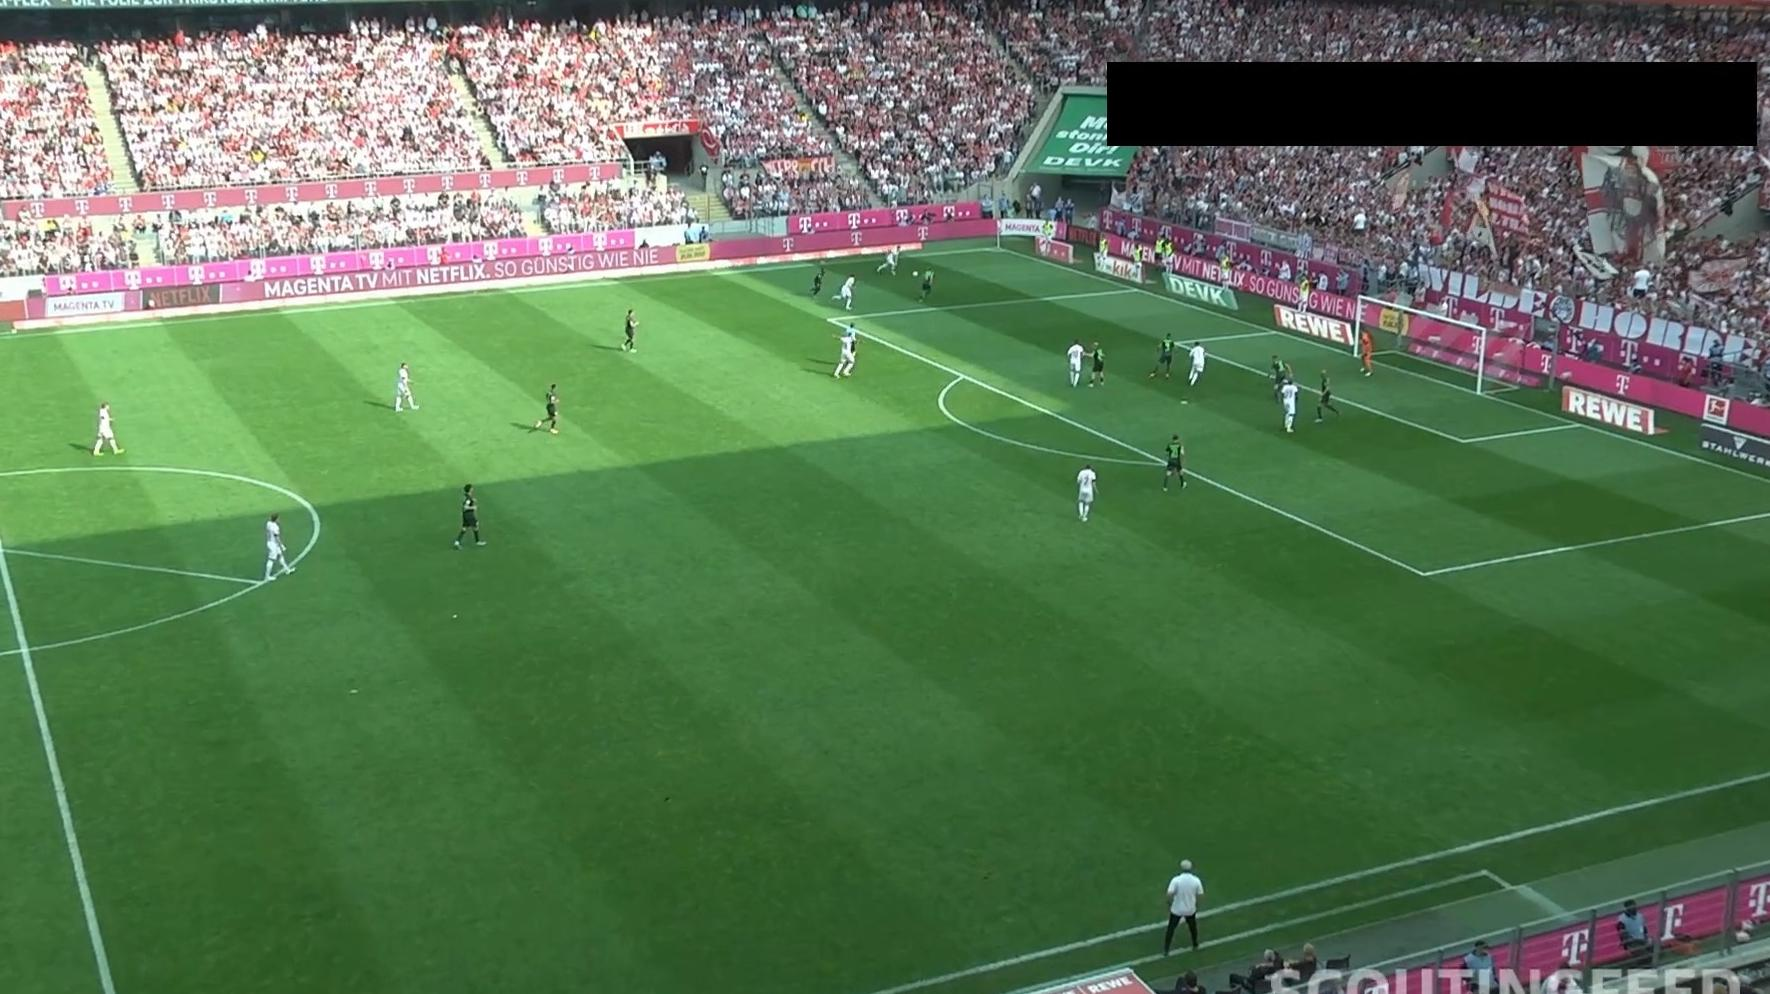ball: (912, 269, 920, 277)
